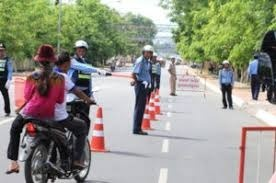helmet: (70, 38, 91, 51), (140, 42, 156, 53), (221, 58, 231, 65)
person with partial safety: (129, 42, 158, 137), (62, 37, 108, 83), (215, 55, 240, 112)
person without safety: (3, 40, 66, 177), (1, 40, 13, 118), (245, 52, 263, 103), (166, 55, 180, 97)
